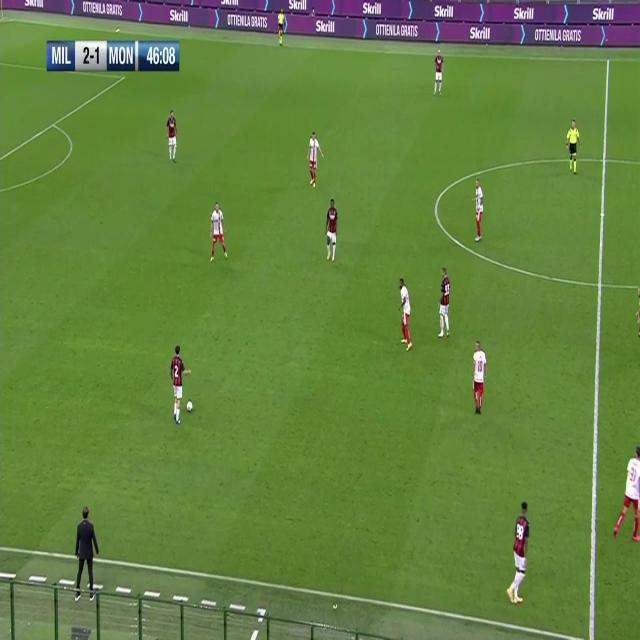ball: (186, 398, 193, 413)
player: (505, 500, 532, 606), (612, 445, 640, 545), (74, 500, 100, 599), (169, 342, 191, 426), (208, 199, 229, 264), (471, 339, 487, 416), (436, 266, 452, 340), (398, 276, 413, 351), (306, 129, 324, 187), (324, 197, 339, 263), (566, 118, 582, 174), (473, 176, 485, 243), (166, 108, 178, 166), (432, 46, 444, 99), (276, 4, 286, 46)
